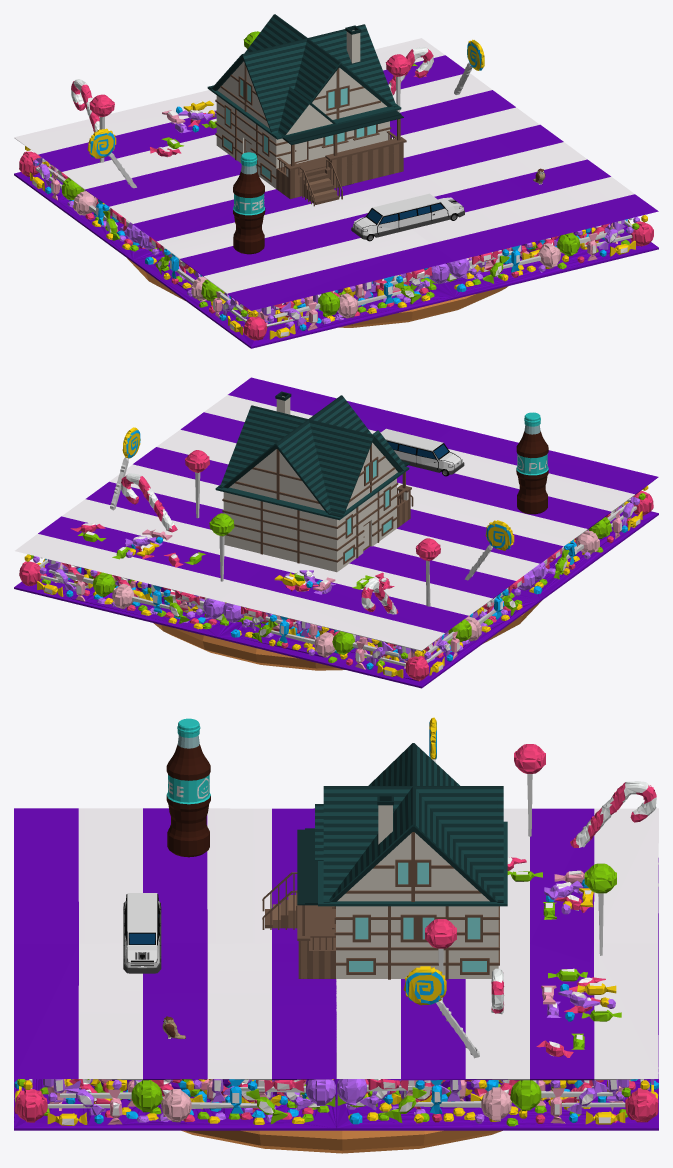
The picture shows the model from 3 angles, top to bottom: view 1: azimuth 30°, elevation 25°; view 2: azimuth 150°, elevation 25°; view 3: azimuth 270°, elevation 25°; orthographic projection. The views are drawn at different scales.
Visible parts, largest first — view 1: TERRAIN_CANDY, Cube.793, VEHICLES_LIMOUSINE, OBJRANDOM_PLATZEECOLA, UNDERGROUND_PIZZA; view 2: TERRAIN_CANDY, Cube.793, OBJRANDOM_PLATZEECOLA, UNDERGROUND_PIZZA, VEHICLES_LIMOUSINE; view 3: TERRAIN_CANDY, Cube.793, UNDERGROUND_PIZZA, OBJRANDOM_PLATZEECOLA, VEHICLES_LIMOUSINE.
Boxes of the visible parts, x1,y1,x2,y2 form: TERRAIN_CANDY: [14, 31, 658, 348]; Cube.793: [207, 14, 406, 206]; VEHICLES_LIMOUSINE: [351, 193, 464, 241]; OBJRANDOM_PLATZEECOLA: [233, 152, 265, 254]; UNDERGROUND_PIZZA: [127, 258, 508, 327]; TERRAIN_CANDY: [14, 377, 658, 688]; Cube.793: [215, 391, 413, 572]; OBJRANDOM_PLATZEECOLA: [516, 412, 548, 514]; UNDERGROUND_PIZZA: [153, 601, 541, 670]; VEHICLES_LIMOUSINE: [371, 428, 464, 476]; TERRAIN_CANDY: [14, 717, 658, 1130]; Cube.793: [262, 743, 507, 979]; UNDERGROUND_PIZZA: [181, 1130, 502, 1153]; OBJRANDOM_PLATZEECOLA: [166, 718, 210, 857]; VEHICLES_LIMOUSINE: [123, 893, 161, 973].
Bounding box in the file's own units: 4059 × 1796 × 4000.
29 materials, 3 textured.
